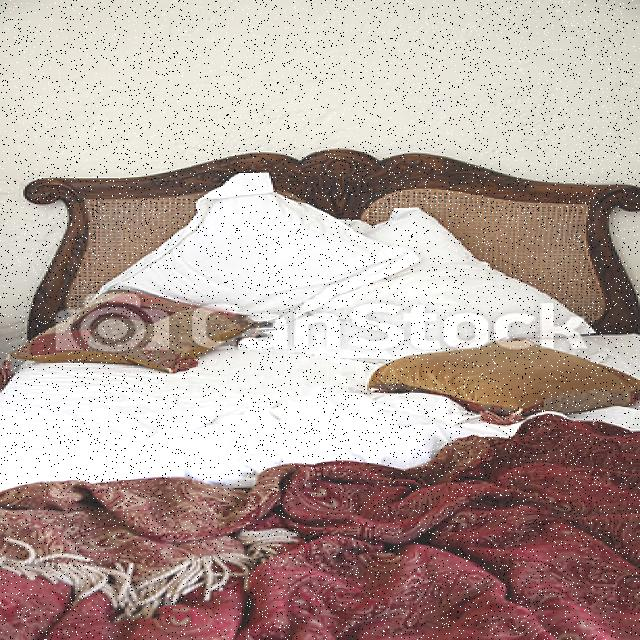bed: (9, 163, 640, 608)
